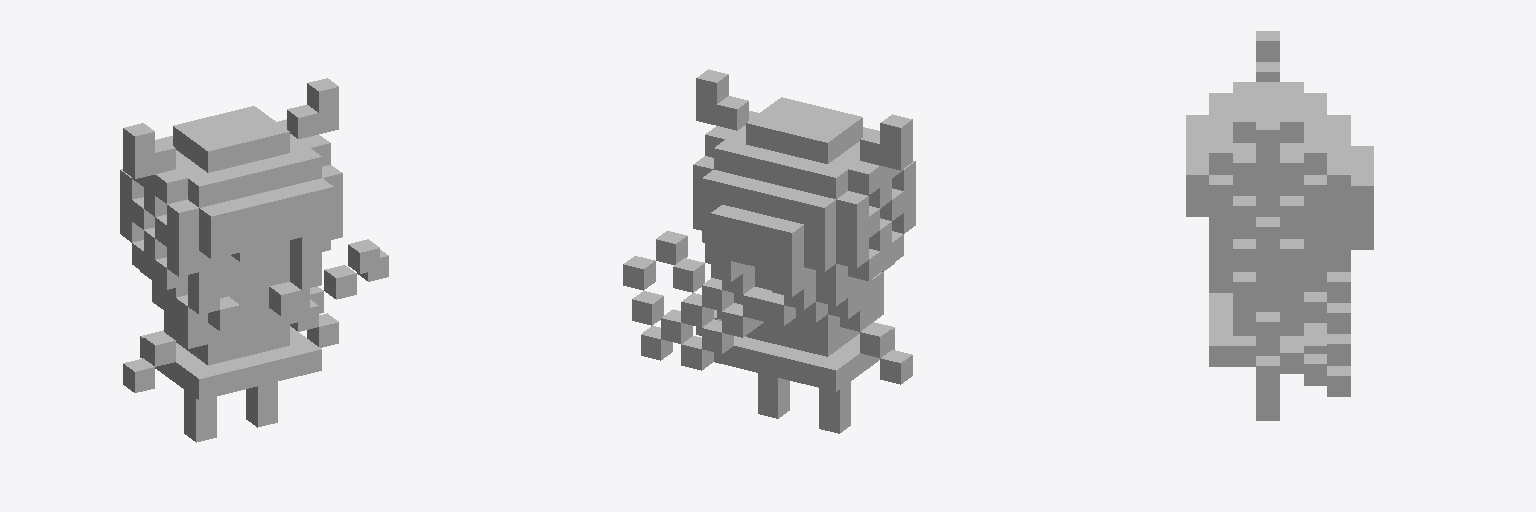
File: chr_knight.obj
The picture shows the model from 3 angles: view 1: azimuth 30°, elevation 25°; view 2: azimuth 150°, elevation 25°; view 3: azimuth 270°, elevation 25°; orthographic projection.
Parts seen in each view (by area): view 1: object 1; view 2: object 1; view 3: object 1.
Boxes of the visible parts, x1=… form: object 1: x1=120, y1=78, x2=388, y2=442; object 1: x1=623, y1=69, x2=915, y2=433; object 1: x1=1186, y1=31, x2=1373, y2=420.
Bounding box in the file's own units: 1.3 × 1.5 × 0.8.